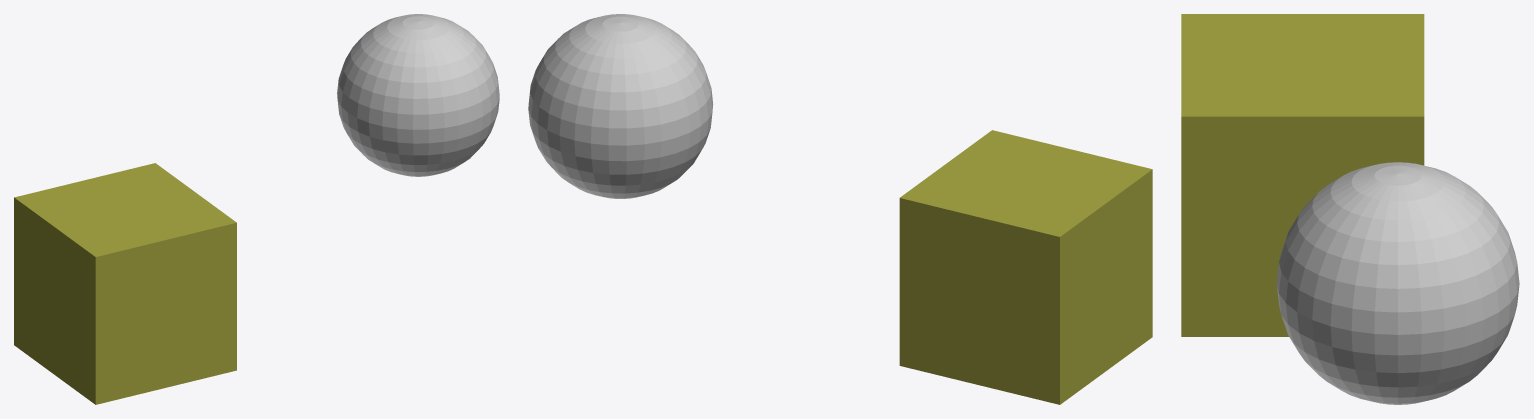
Rendered from two_complete_meshes.obj.
The picture shows the model from 3 angles, left to right: view 1: azimuth 30°, elevation 25°; view 2: azimuth 150°, elevation 25°; view 3: azimuth 270°, elevation 25°; orthographic projection. The views are drawn at different scales.
Visible parts, largest first — view 1: Cube, Sphere; view 2: Cube, Sphere; view 3: Cube, Sphere.
Part boxes in pixels (bbox=[...]): Cube: bbox=[14, 163, 236, 404]; Sphere: bbox=[337, 14, 499, 176]; Cube: bbox=[899, 130, 1152, 404]; Sphere: bbox=[528, 14, 713, 198]; Cube: bbox=[1181, 14, 1424, 336]; Sphere: bbox=[1276, 162, 1519, 404].
Size of the model in its own units: 6.6 by 3.16 by 2.78.
